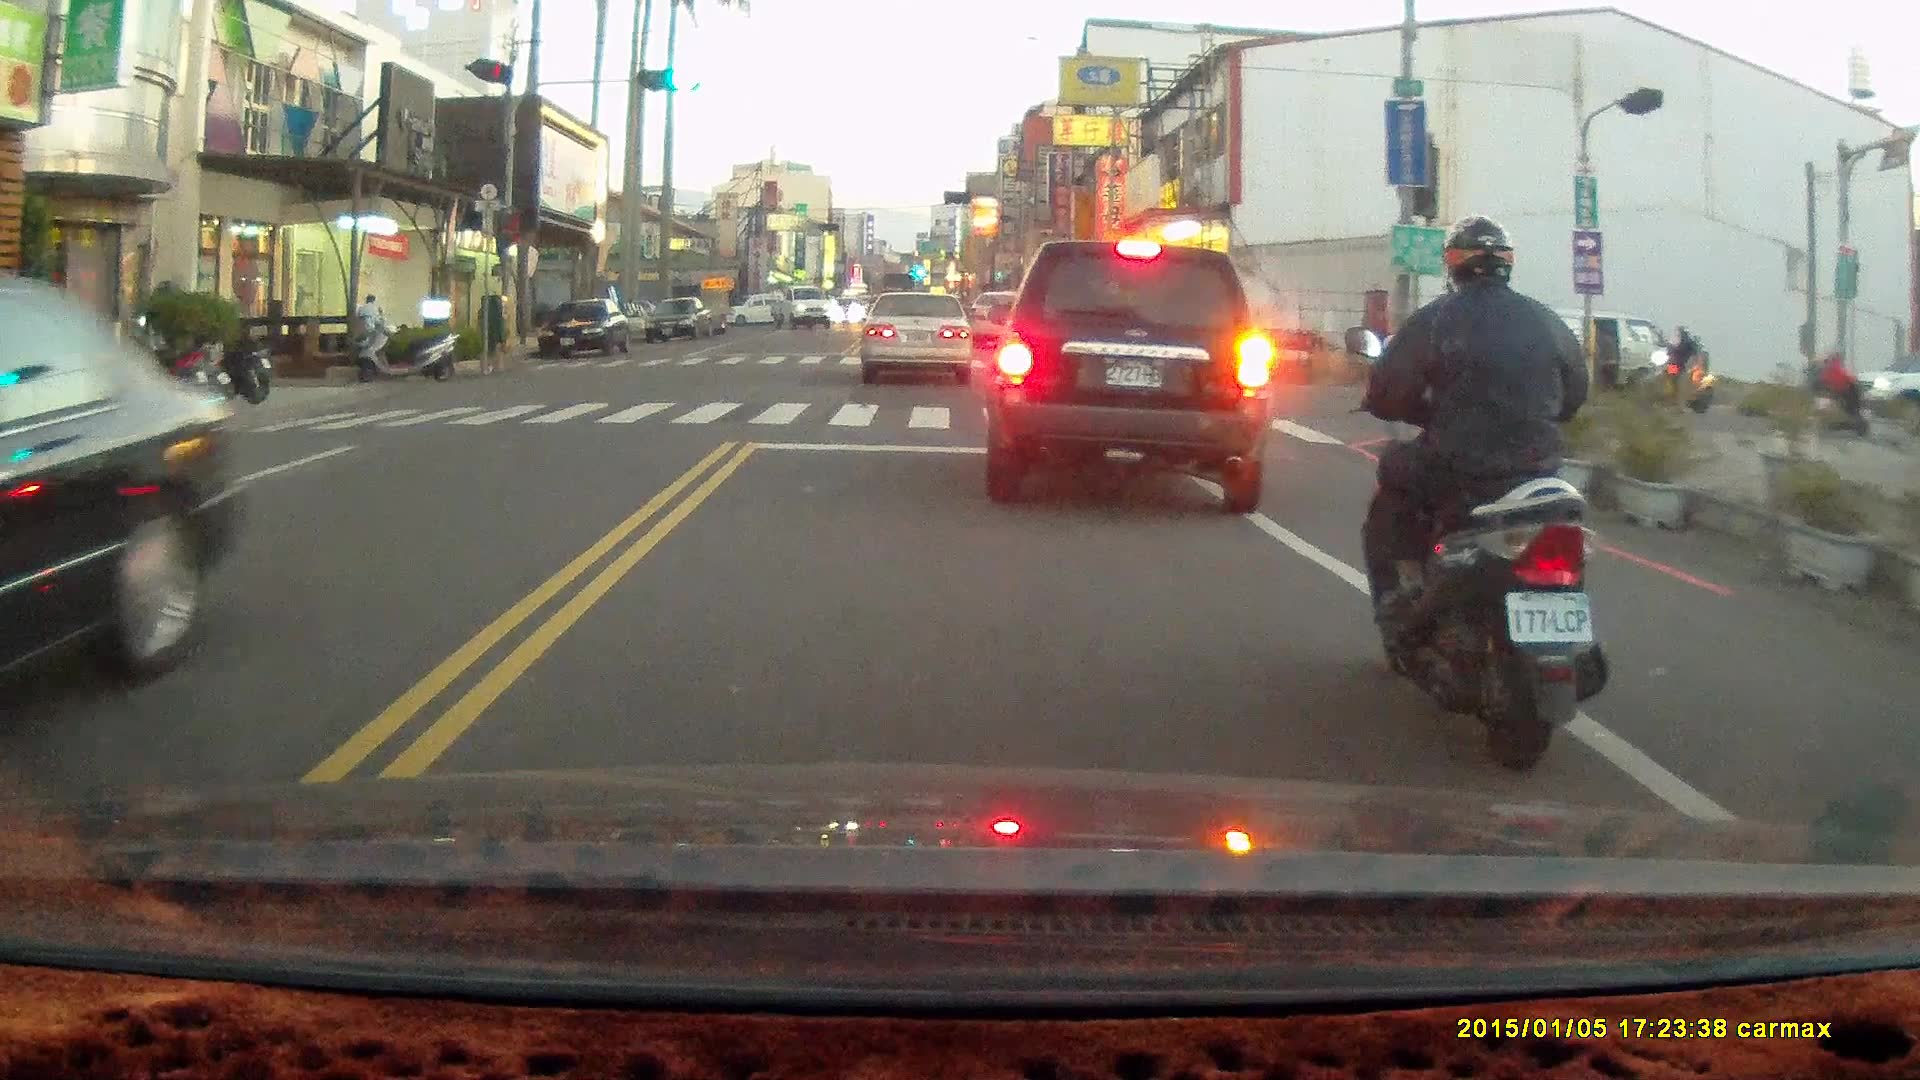pedestrian: (354, 292, 385, 360), (1594, 320, 1617, 391)
rider: (1338, 212, 1608, 769), (1795, 345, 1872, 436), (1638, 319, 1710, 412)
vehicle: (1, 275, 247, 721), (987, 238, 1269, 517), (1481, 307, 1685, 408), (861, 293, 974, 389), (536, 299, 635, 358), (641, 298, 712, 347), (770, 285, 834, 334)
